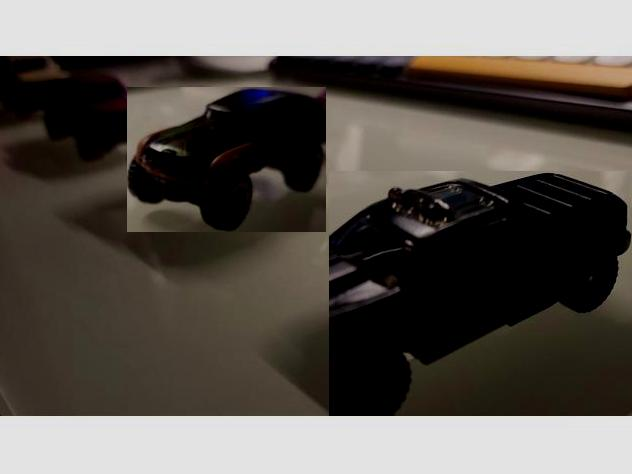toy-car: (329, 171, 632, 416), (127, 87, 326, 232), (43, 73, 136, 164)
